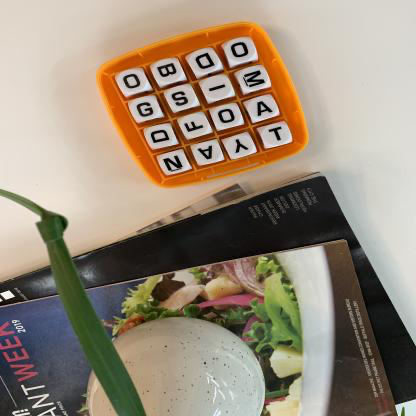a: (248, 96, 278, 120), (193, 142, 222, 165)
b: (153, 60, 184, 84)
d: (189, 50, 220, 74), (146, 125, 176, 149)
f: (180, 115, 210, 138)
g: (131, 98, 160, 120)
i: (202, 77, 233, 100)
m: (240, 67, 269, 92)
n: (160, 152, 189, 174)
o: (118, 70, 149, 94), (212, 105, 243, 129), (227, 39, 256, 63)
s: (168, 86, 198, 111)
t: (262, 125, 292, 147)
y: (225, 136, 255, 158)
